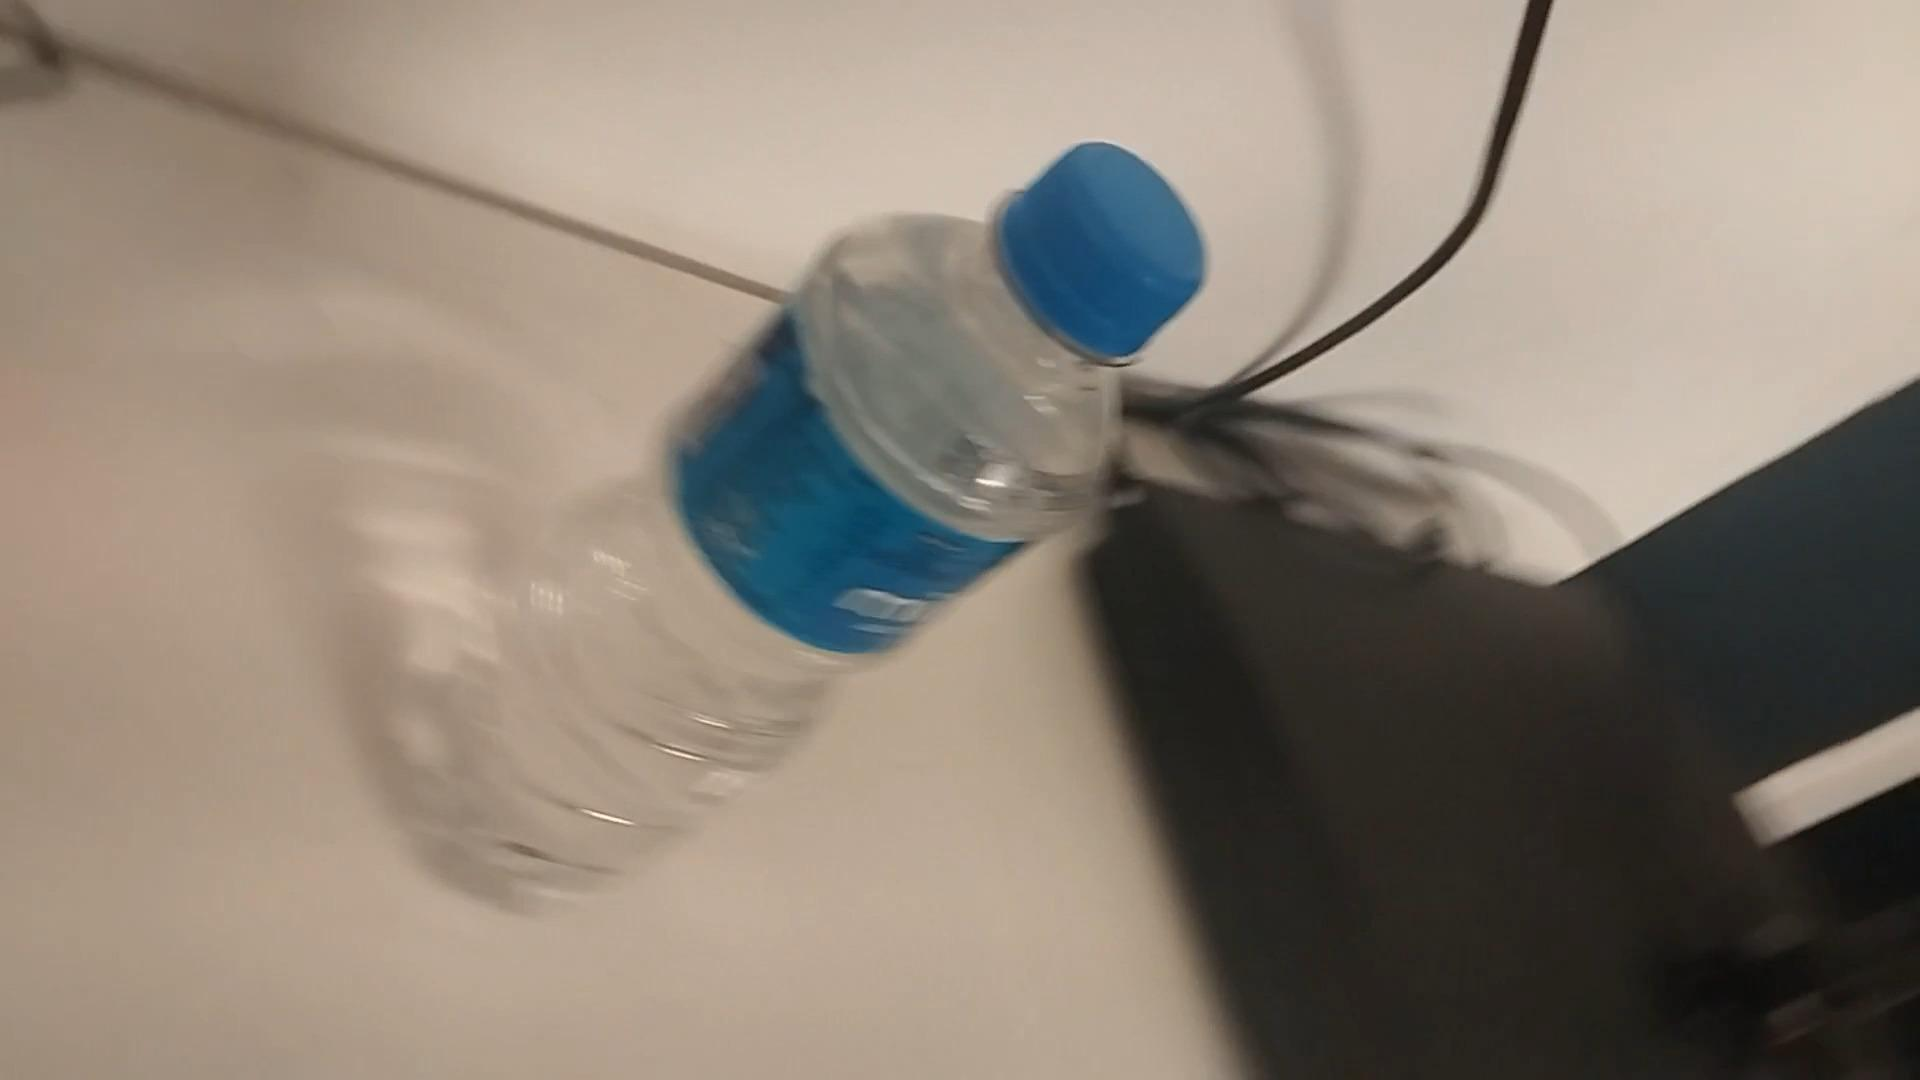agua: (377, 141, 1200, 913)
